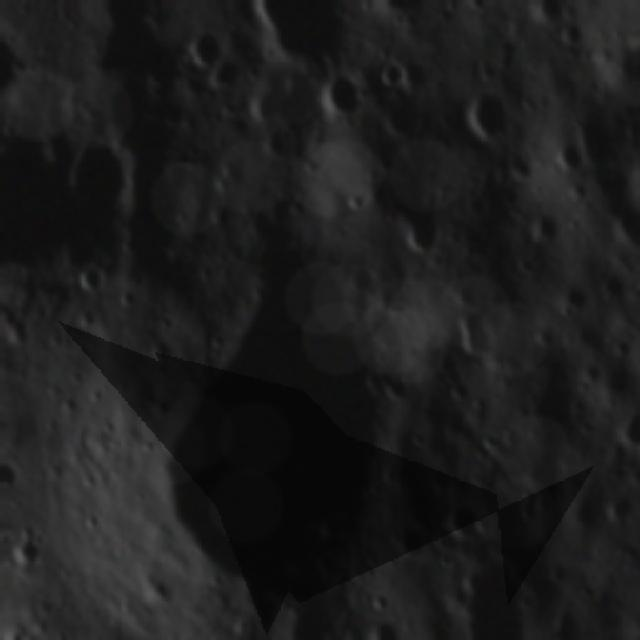crater: (144, 229, 404, 616), (358, 148, 452, 267), (61, 120, 139, 218), (449, 553, 538, 638), (450, 302, 505, 369), (438, 489, 496, 548), (308, 64, 364, 122), (460, 84, 514, 144), (10, 524, 53, 578), (524, 199, 568, 247), (62, 255, 109, 297), (611, 399, 640, 467), (552, 274, 594, 320), (208, 49, 250, 94), (182, 24, 222, 64), (374, 49, 411, 92), (557, 17, 591, 57), (524, 0, 578, 25), (438, 373, 476, 404), (556, 142, 590, 176), (576, 357, 604, 394), (530, 318, 556, 352), (465, 0, 498, 17)
